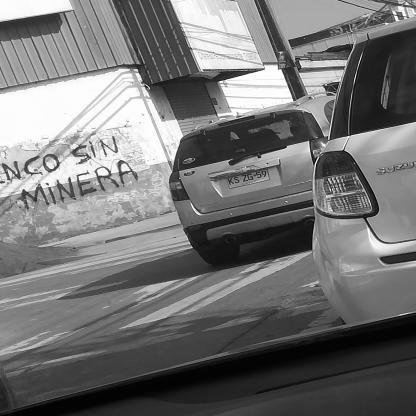Patente: (225, 167, 272, 191)
